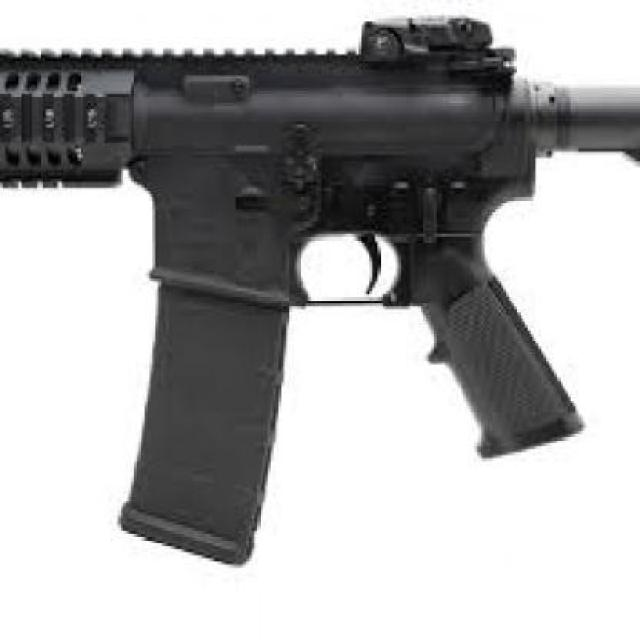weapon: (1, 30, 640, 561)
